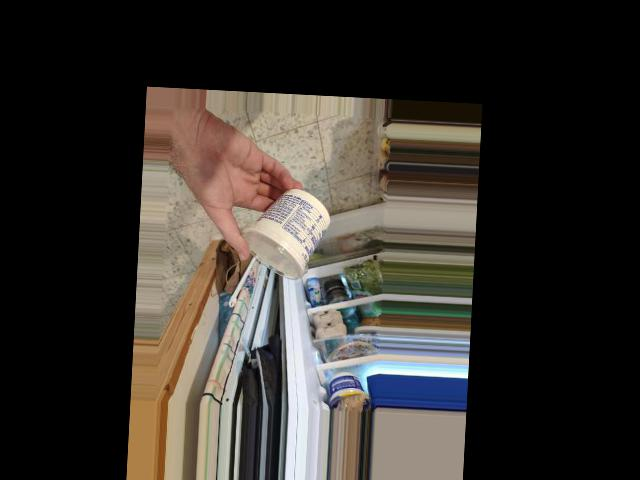cotage: (233, 187, 321, 268)
